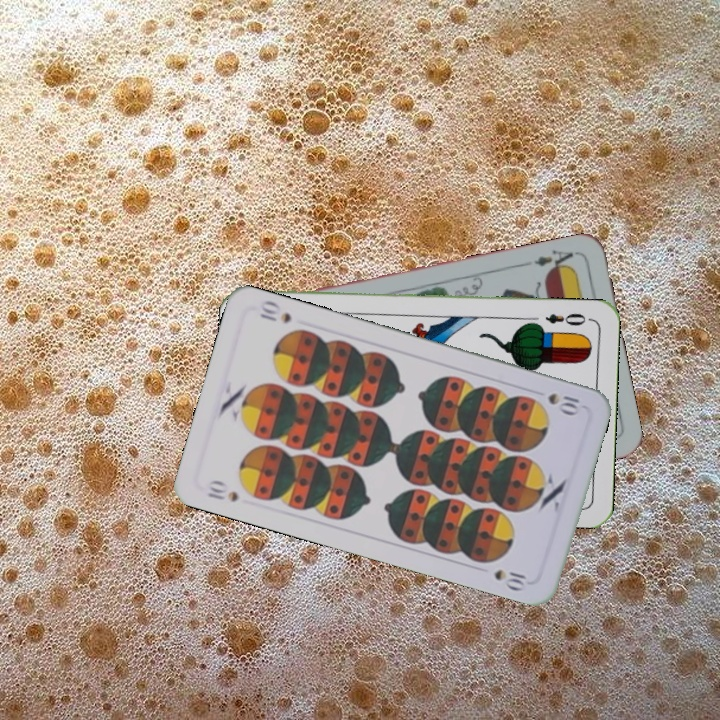EA: (530, 246, 580, 275)
EO: (541, 309, 588, 329)
S10: (202, 476, 241, 505), (543, 389, 582, 417)
